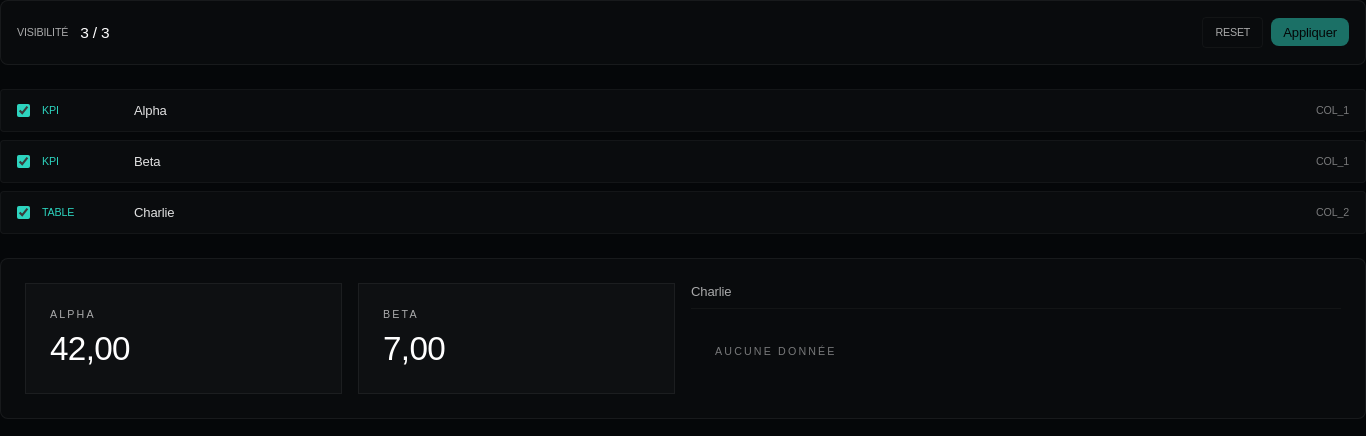
Scenario: ReportSpecEditor › affiche 'Aucun block visible' quand tout est désactivé
Click the checkbox with test id "editor-toggle-kpi_a".
click(24, 110)  # box x1=17 y1=104 x2=30 y2=117
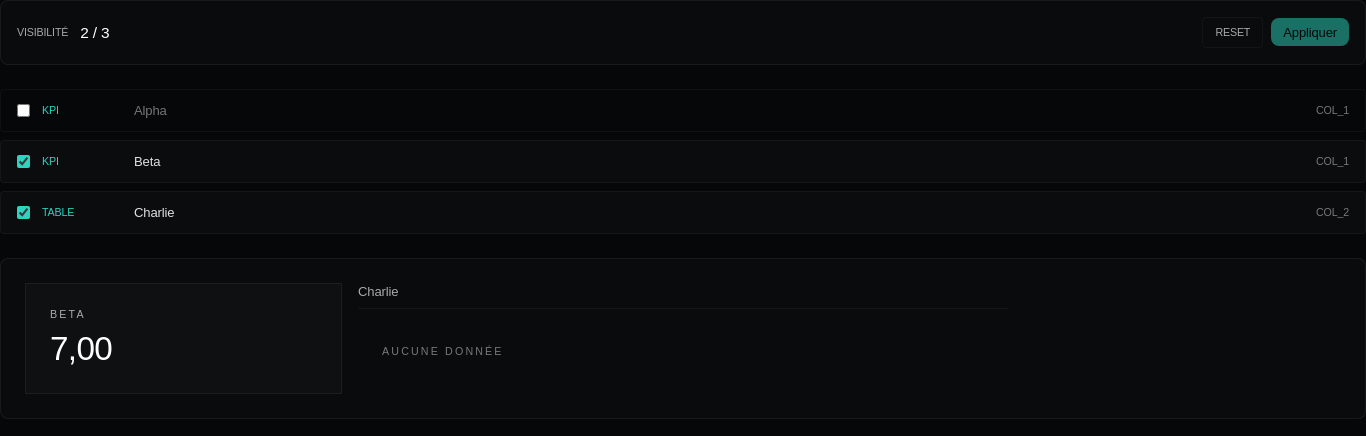
Click the checkbox with test id "editor-toggle-kpi_b".
click(24, 161)  # box x1=17 y1=155 x2=30 y2=168
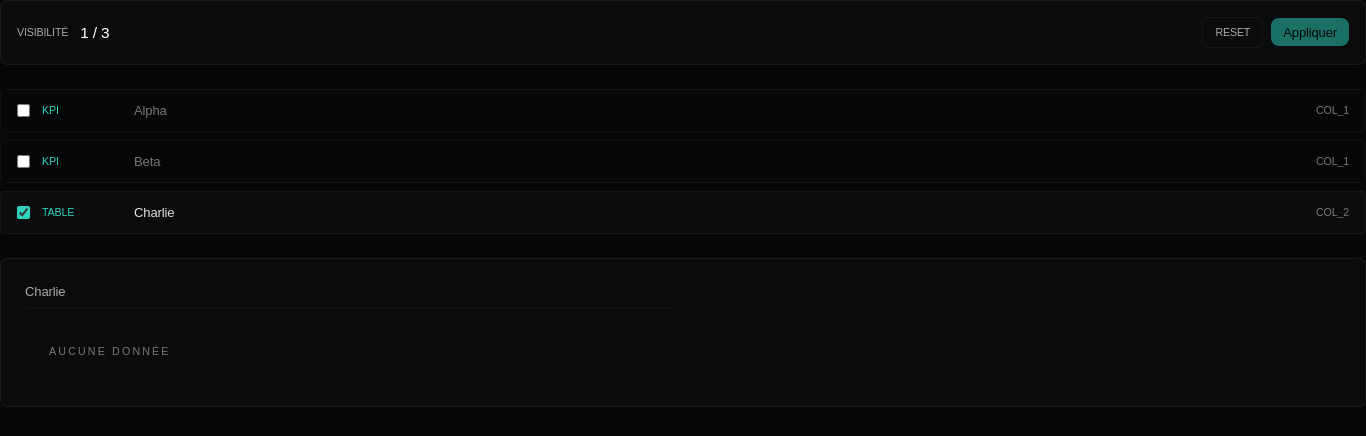
Click the checkbox with test id "editor-toggle-tab_c".
click(24, 212)  # box x1=17 y1=206 x2=30 y2=219
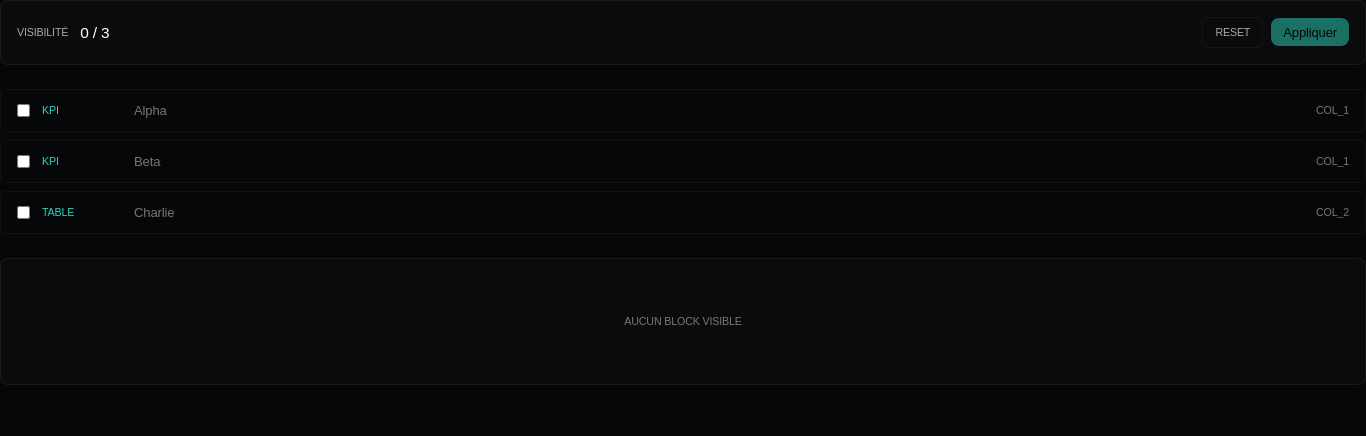
Expected: the text "Aucun block visible" is shown, x1=624 y1=315 x2=742 y2=327
